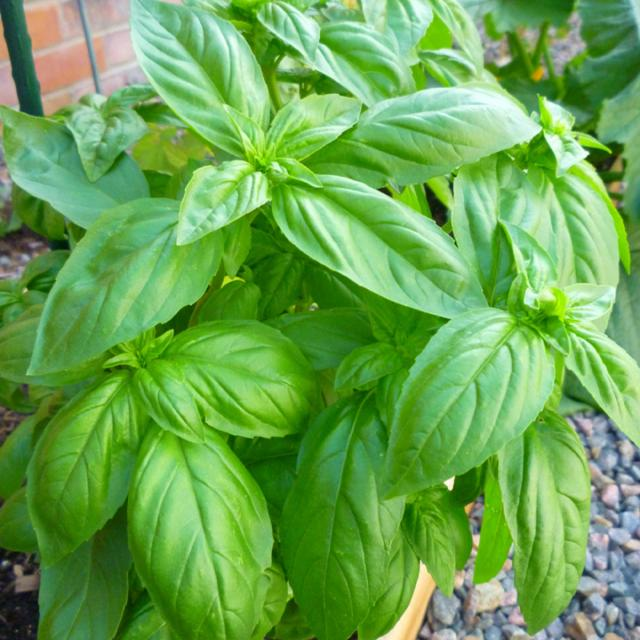Sweet Basil: (42, 4, 640, 639)
